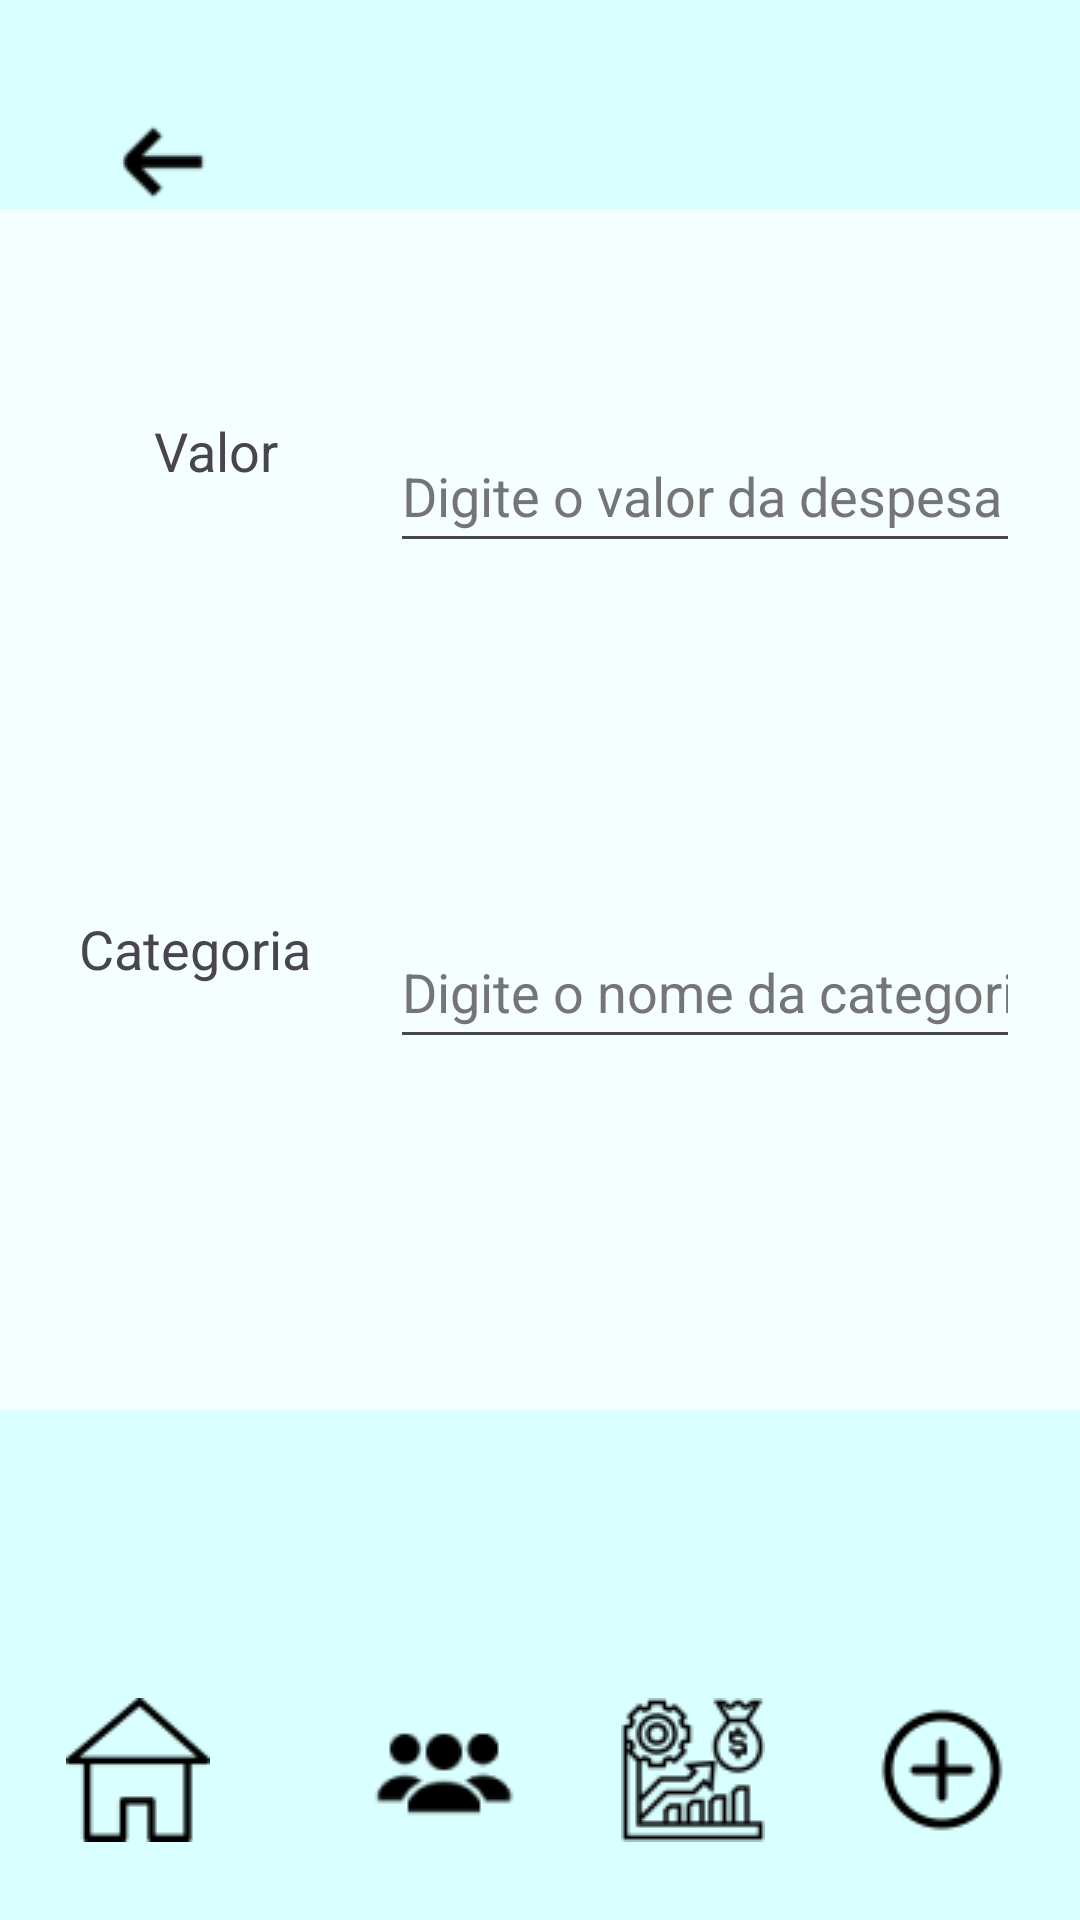

Locate icon controls on the screen. Image size 1080*1920, boxes as {"x1": x1, "y1": y1, "x2": x2, "y2": y2}.
Botao para adicionar despesa: {"x1": 881, "y1": 1709, "x2": 1003, "y2": 1831}
Botao para ir para despesas: {"x1": 621, "y1": 1698, "x2": 765, "y2": 1842}
Botao para ir tela de grupo: {"x1": 375, "y1": 1733, "x2": 513, "y2": 1815}
Botao para voltar para tela inicial: {"x1": 66, "y1": 1698, "x2": 210, "y2": 1842}
